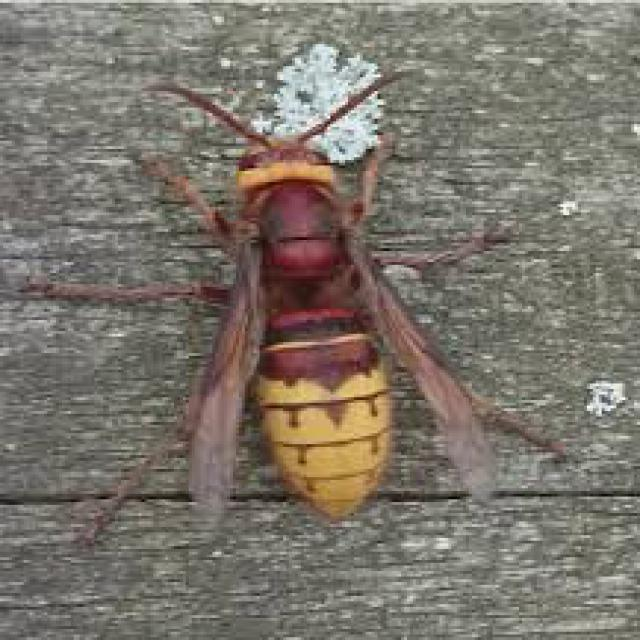Vespa Orientalis: (10, 39, 593, 582)
